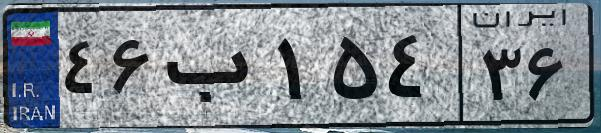1: (270, 28, 330, 110)
3: (475, 38, 525, 113)
4: (385, 28, 445, 110), (57, 26, 110, 100)
5: (330, 28, 385, 110)
6: (525, 38, 570, 115), (110, 28, 158, 98)
ب: (158, 20, 270, 120)
